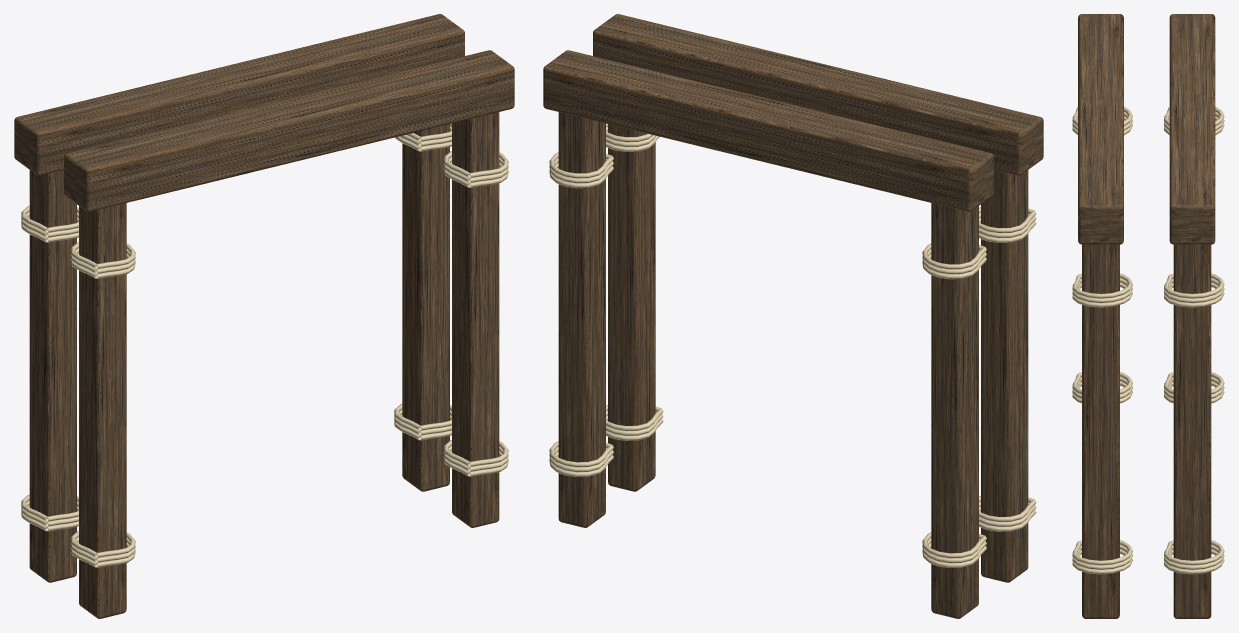
The model's file is wide_braces.glb.
3 renders of one model, left to right at view 1: azimuth 30°, elevation 25°; view 2: azimuth 150°, elevation 25°; view 3: azimuth 270°, elevation 25°, orthographic. The views are drawn at different scales.
Parts seen in each view (by area): view 1: wide_braces_mesh; view 2: wide_braces_mesh; view 3: wide_braces_mesh.
Boxes of the visible parts, x1,y1,x2,y2 form: wide_braces_mesh: (14, 14, 514, 618); wide_braces_mesh: (543, 14, 1043, 618); wide_braces_mesh: (1072, 14, 1224, 618).
Bounding box in the file's own units: 2.3 × 2.33 × 0.7652.
2 materials, 1 textured.
